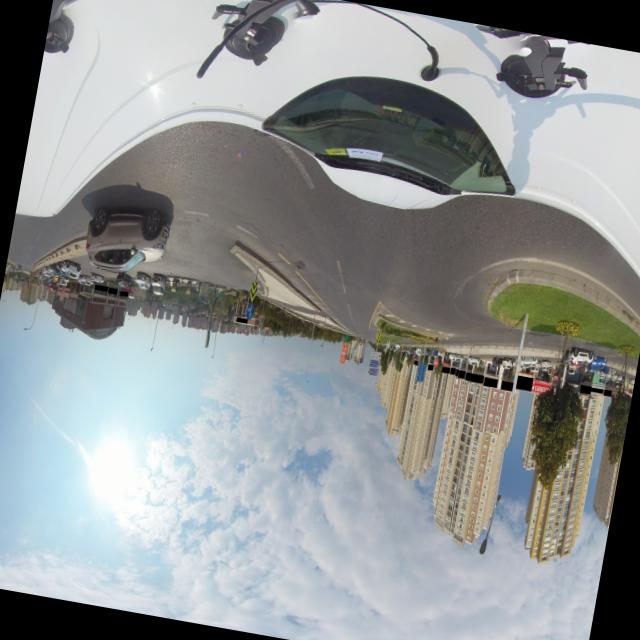SignStore: (515, 374, 532, 390), (482, 376, 497, 386), (499, 379, 512, 390), (470, 372, 483, 382), (578, 383, 590, 393), (93, 283, 107, 290), (589, 386, 602, 392), (235, 316, 247, 322), (463, 371, 471, 379), (440, 365, 449, 372), (107, 286, 116, 293), (602, 388, 611, 395), (118, 289, 127, 296), (457, 369, 464, 377), (449, 366, 455, 373), (427, 363, 432, 369), (454, 368, 458, 375), (413, 359, 416, 363), (415, 360, 417, 364)
